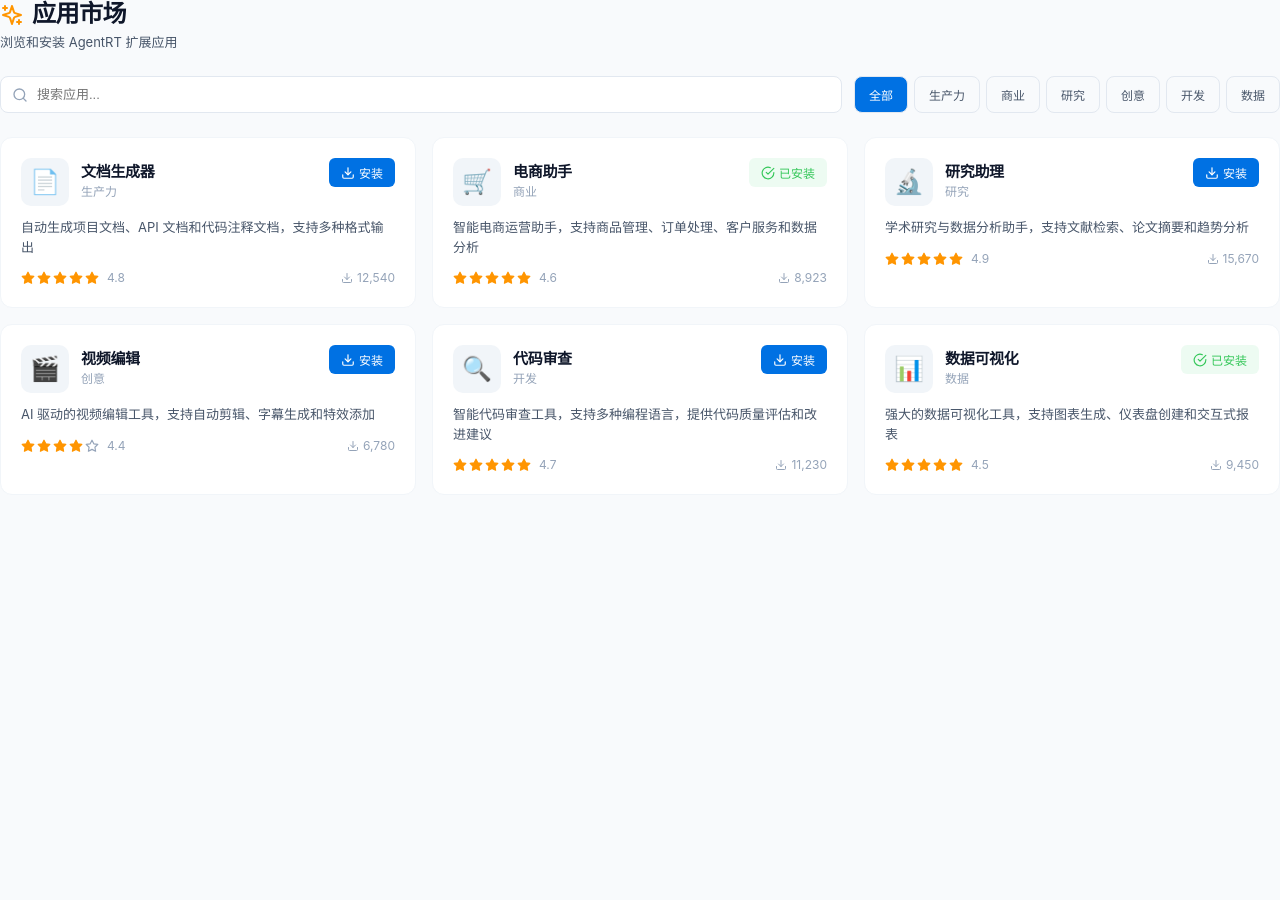
Test: OpenLab › closes detail dialog when clicking backdrop
Click the list item "📄 文档生成器 生产力 安装 自动生成项目文档、API 文档和代码注释文档，支持多种格式输出 4.8 12,540": (208, 223) [0,137,416,308]
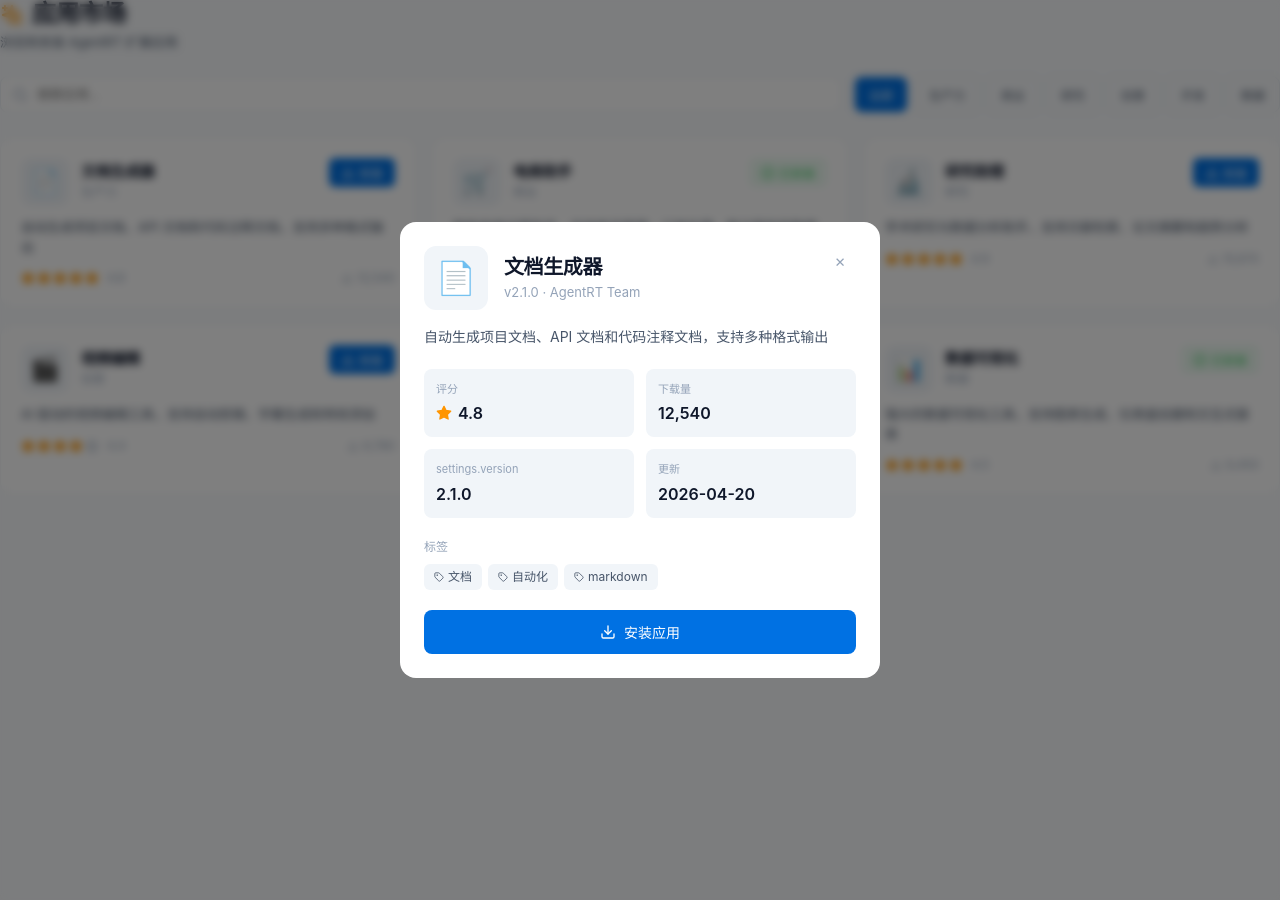
Result: the dialog is shown
Click the dialog: (77, 450) [0,0,1279,899]
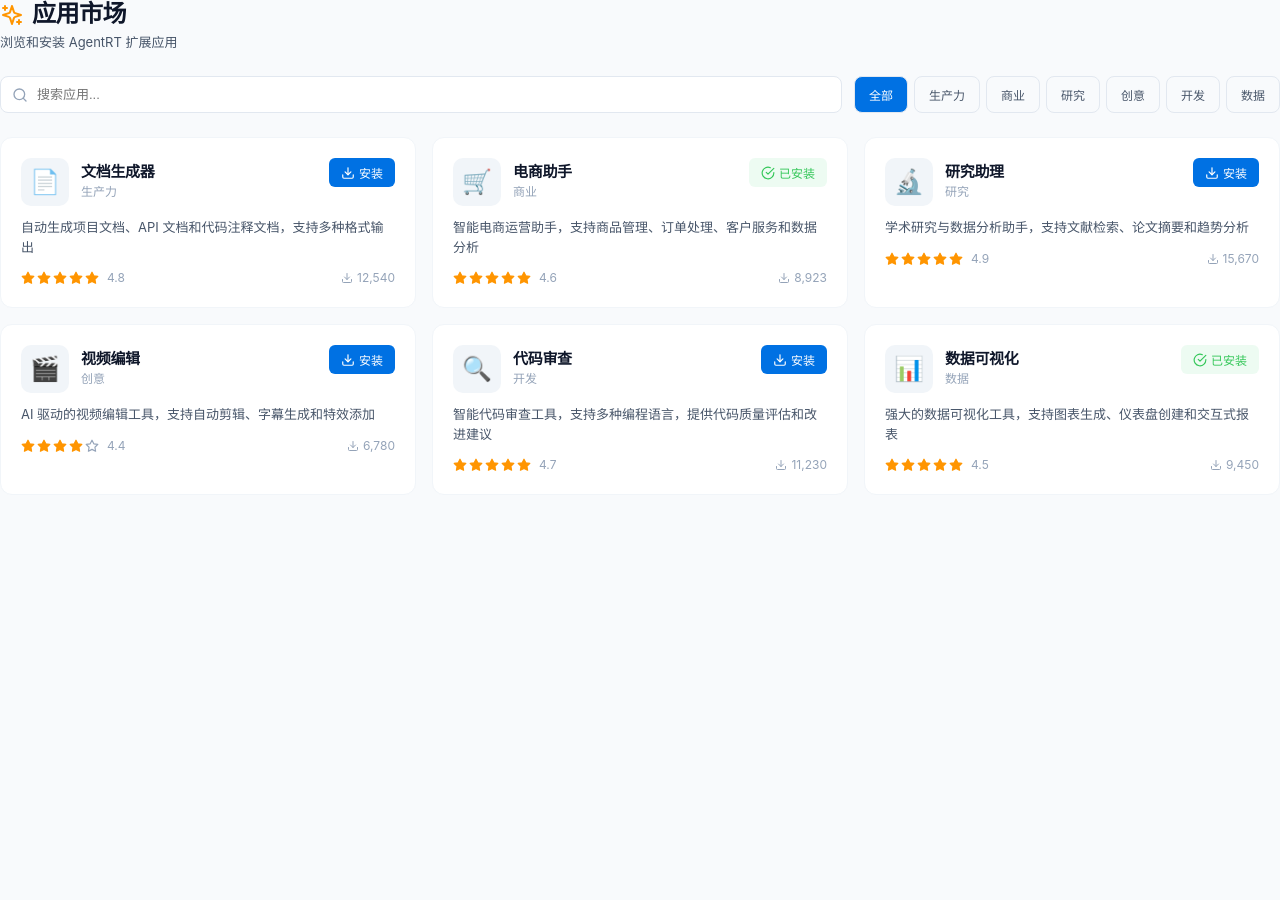
Result: the dialog is gone
